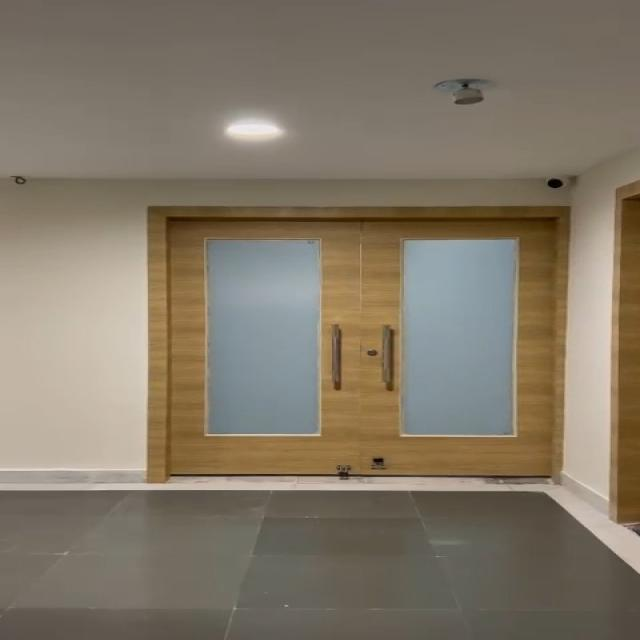door: (142, 201, 575, 476)
floor: (0, 485, 599, 640)
wall: (6, 180, 140, 474)
